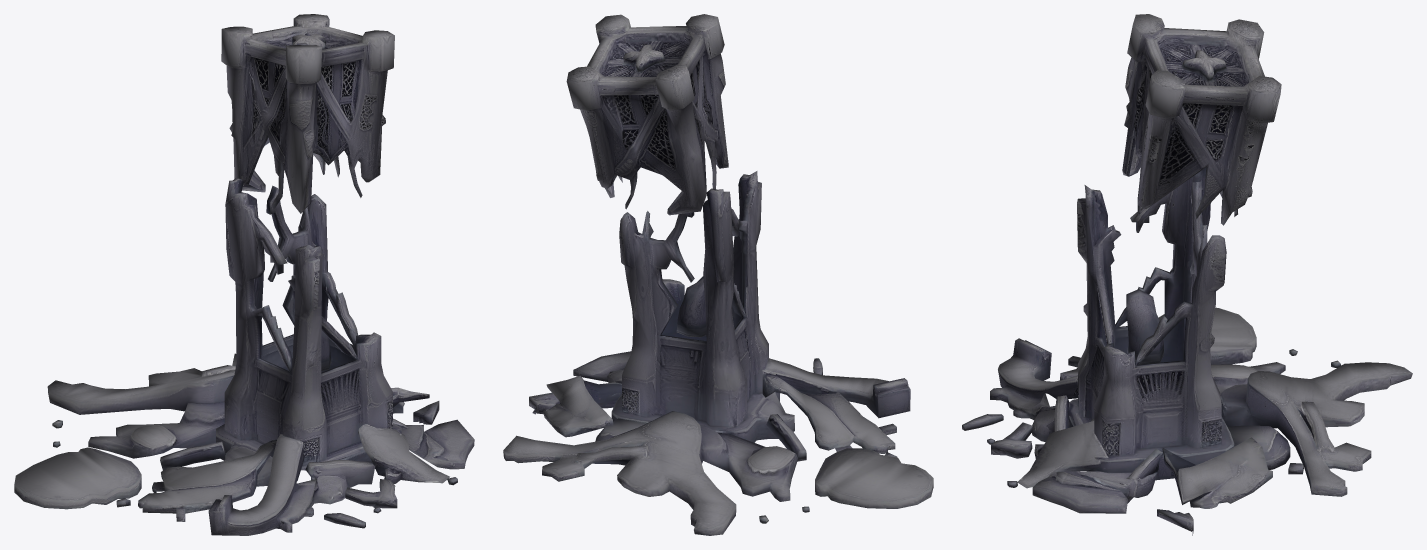
File: tripo_convert_11aeb4e5-a39b-4357-81cf-0cc42acd8f67.fbx
3 views of the same model, side by side, from view 1: azimuth 30°, elevation 25°; view 2: azimuth 150°, elevation 25°; view 3: azimuth 270°, elevation 25° (orthographic). The views are drawn at different scales.
Visible parts, largest first — view 1: tripo_node_11aeb4e5; view 2: tripo_node_11aeb4e5; view 3: tripo_node_11aeb4e5.
Part boxes in pixels (left/top/right/bottom): tripo_node_11aeb4e5: left=14, top=14, right=474, bottom=535; tripo_node_11aeb4e5: left=503, top=14, right=933, bottom=535; tripo_node_11aeb4e5: left=962, top=14, right=1412, bottom=535.
Bounding box in the file's own units: 0.998 × 0.9824 × 0.9121.
